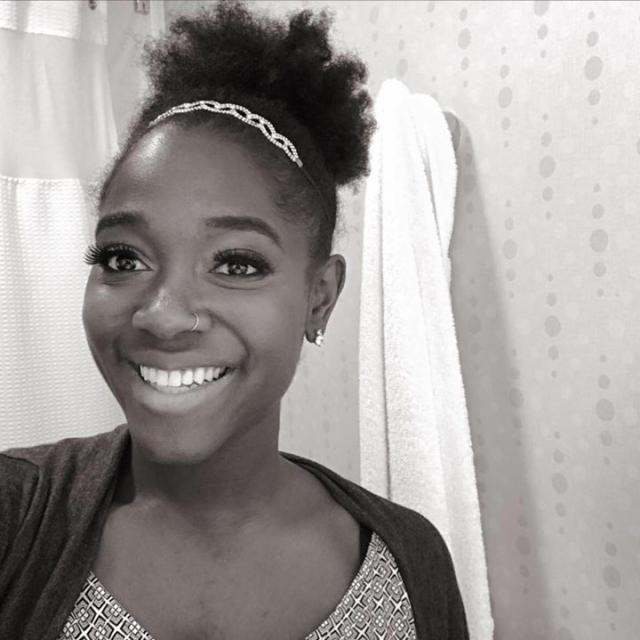adult: (4, 9, 468, 640)
